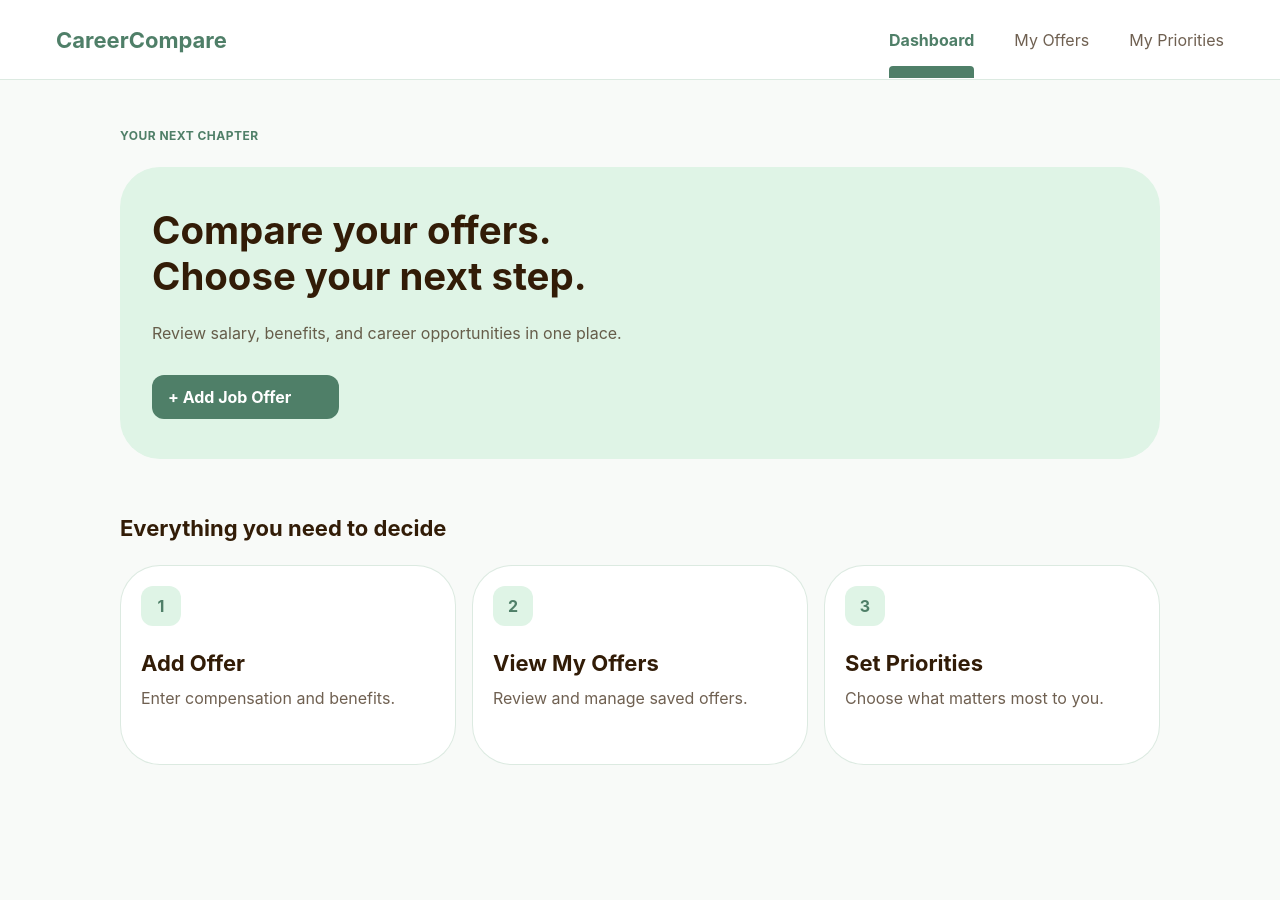
it: App › returns to the dashboard when the form is cancelled
Click the button "+ Add Job Offer". click: (246, 397)
box: [152,375,339,419]
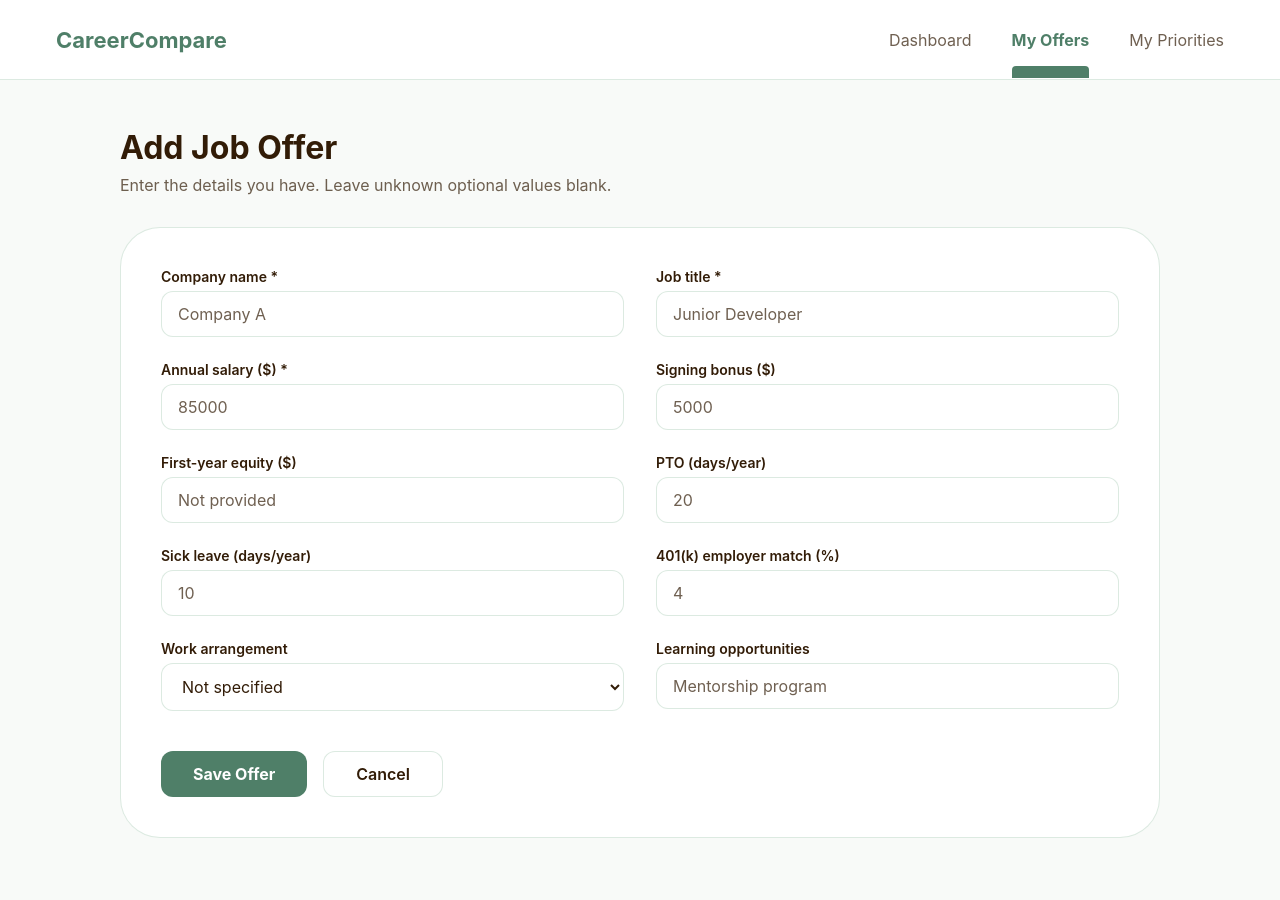
Click the button "Cancel". click: (383, 774)
box: [323,751,443,797]
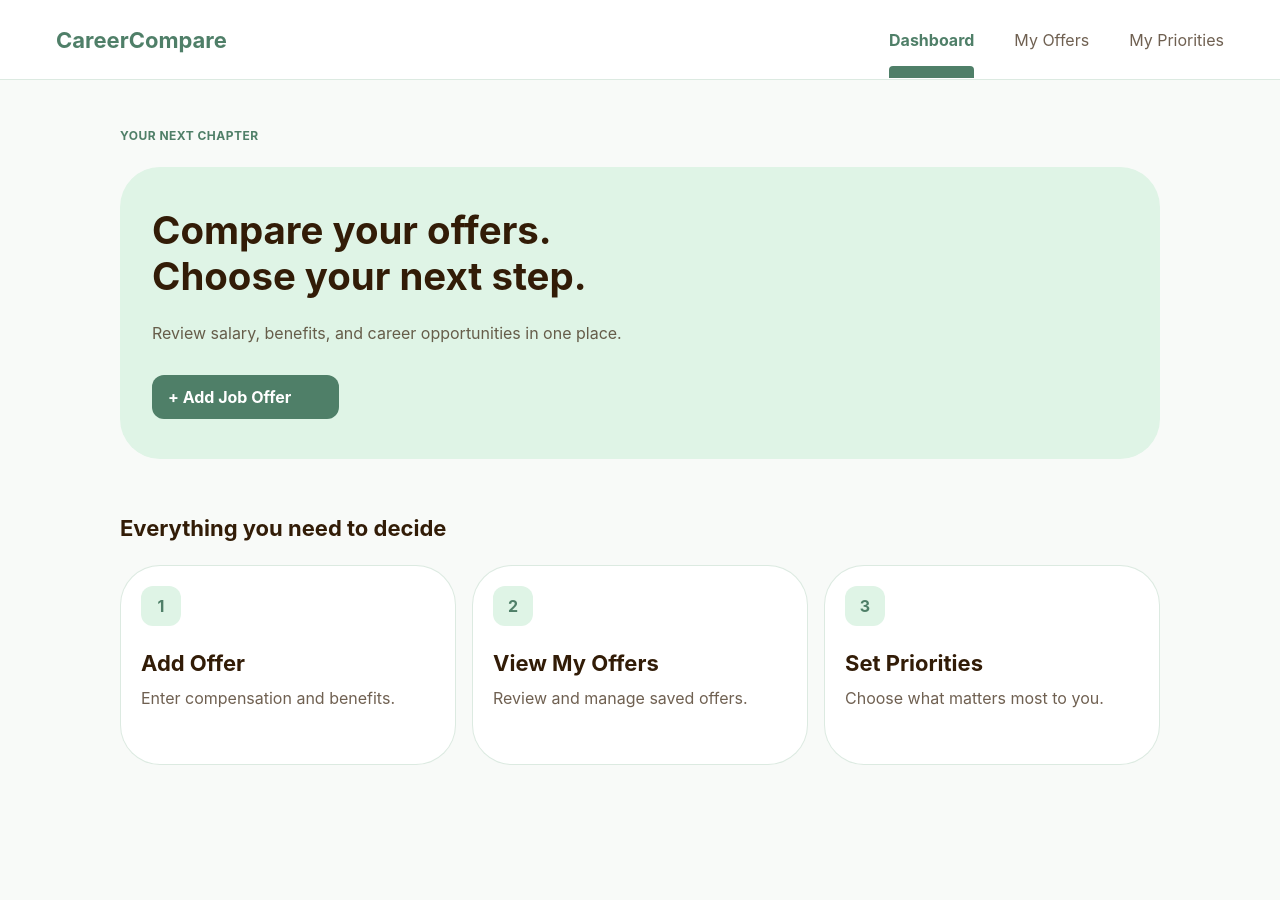
Check: the heading "Everything you need to decide" is shown, box [120,515,446,541]
